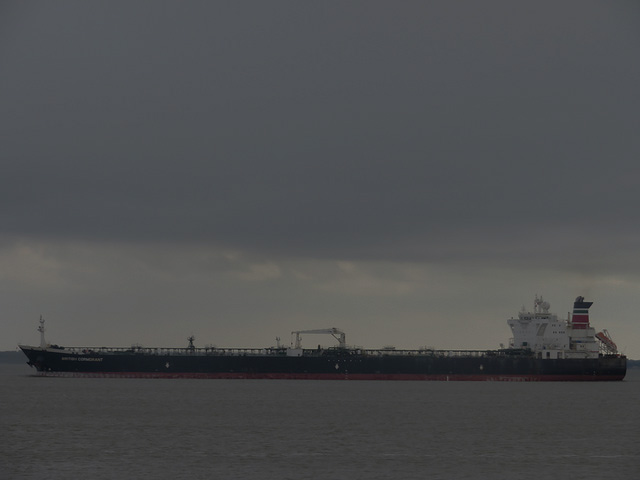tanker: (17, 290, 637, 384)
